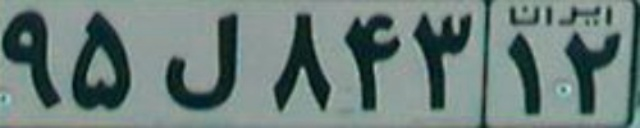1: (506, 33, 545, 113)
2: (566, 31, 625, 114)
3: (412, 13, 473, 110)
4: (344, 13, 402, 111)
5: (70, 12, 136, 109)
8: (272, 11, 332, 111)
9: (1, 12, 60, 106)
lam: (163, 13, 239, 109)
